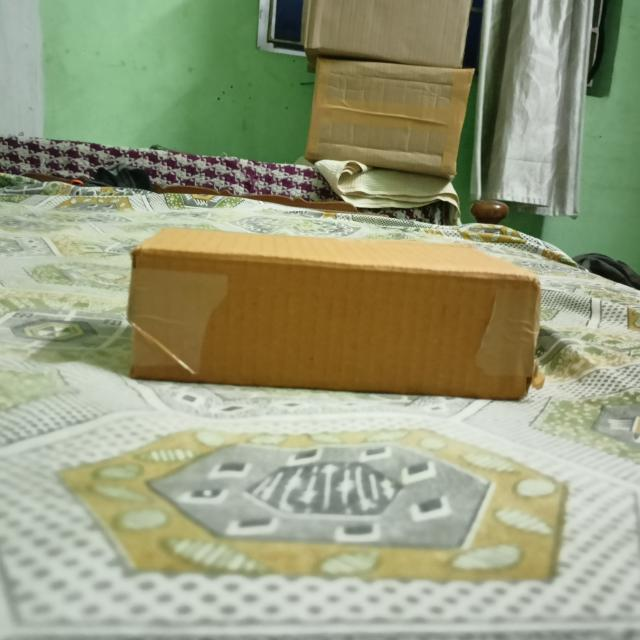box: (127, 249, 541, 393)
